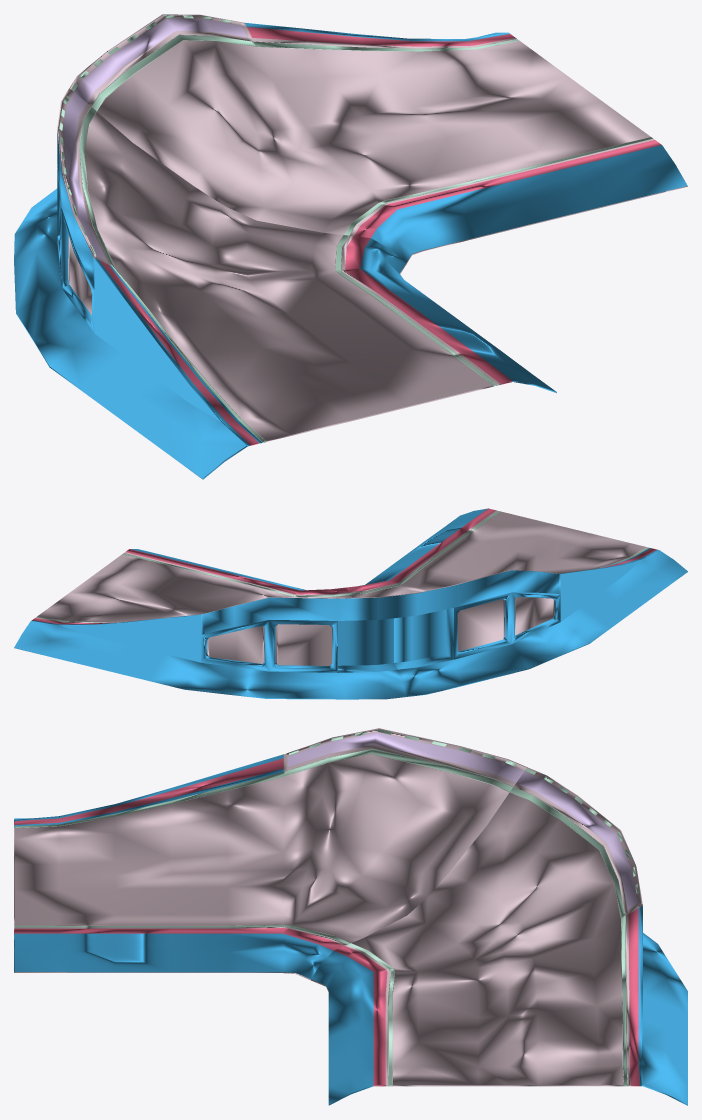
File: RaceTrack_clean_business_prop_uee_14.glb
The picture shows the model from 3 angles, top to bottom: view 1: azimuth 30°, elevation 25°; view 2: azimuth 150°, elevation 25°; view 3: azimuth 270°, elevation 25°; orthographic projection. The views are drawn at different scales.
Bounding box in the file's own units: 15 × 2.98 × 15.
